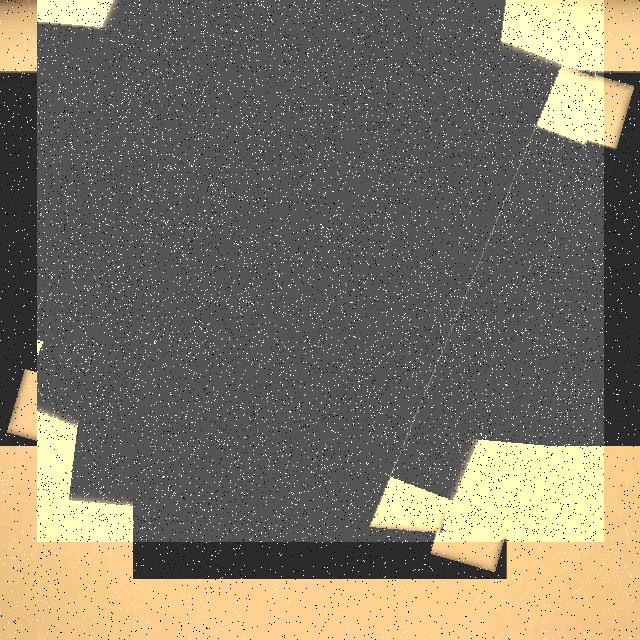dua puluh ribu rupiah: (37, 0, 604, 542)
